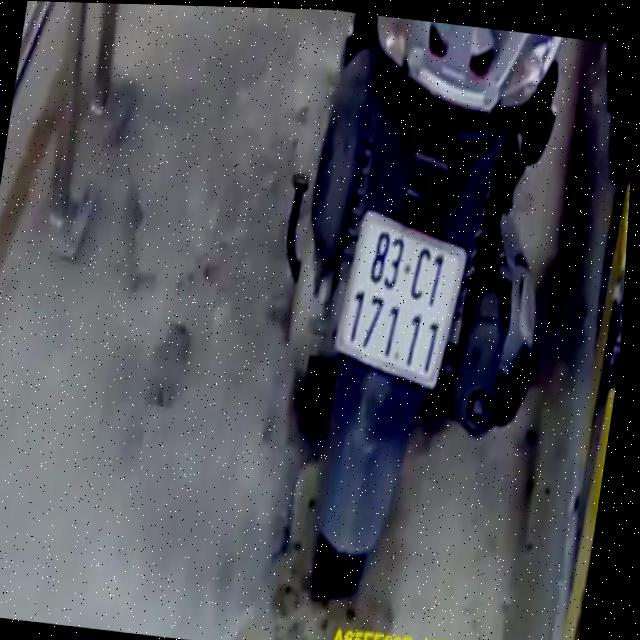motorcycle: (219, 8, 592, 635)
plate: (322, 206, 470, 394)
